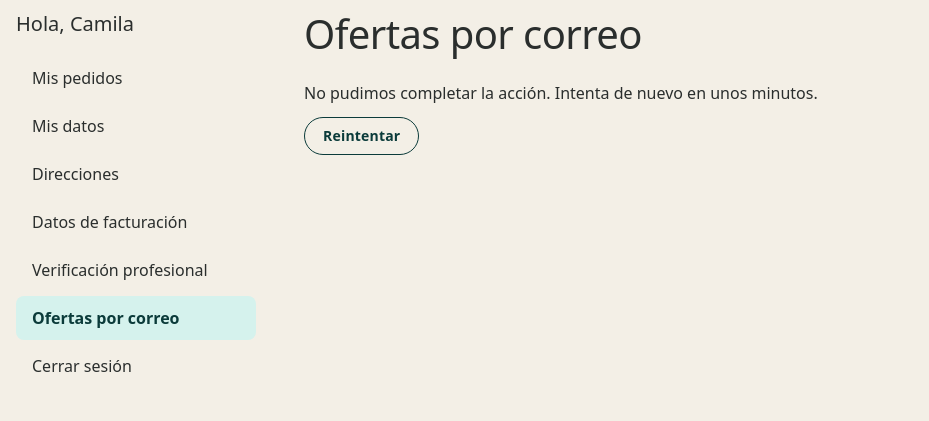
E12-H2 FE · Ofertas por correo › E12-H2 FE · sin conexión: muestra el error y deja reintentar
Expected: the message "No pudimos completar la acción. Intenta de nuevo en unos minutos." is shown, [304, 81, 818, 105]
Click the button "Reintentar". click: (362, 136)
box: [304, 117, 419, 155]
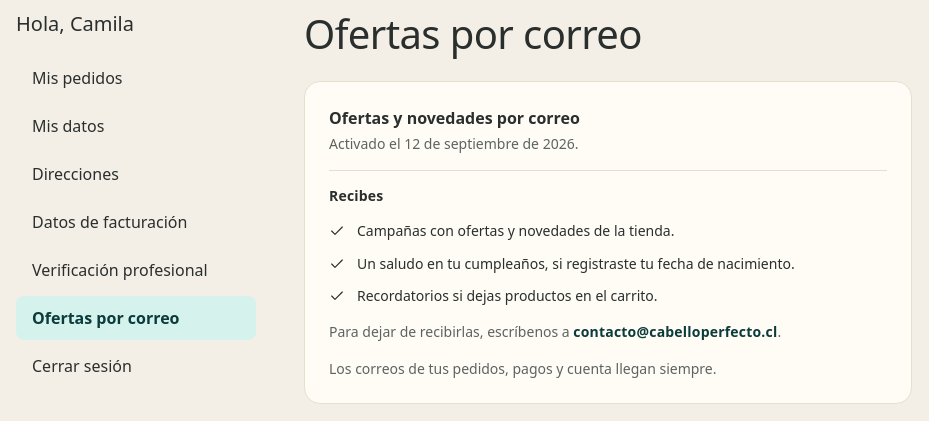
Expected: the text "Activado el 12 de septiembre de 2026." is shown, [329, 134, 578, 153]
